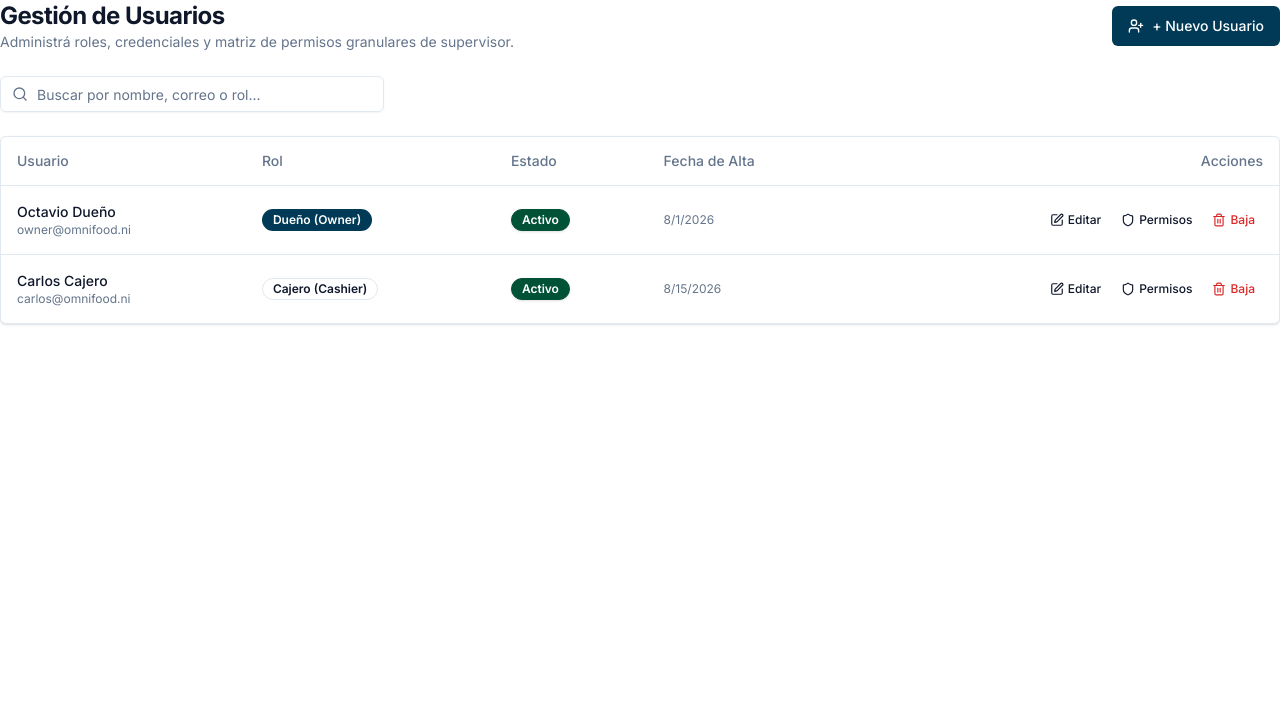
W8 — Users & Permissions Integration Suite (Real React Query + UI) › creates a new user successfully, updates table, and persists across query cache
Check: the text "Carlos Cajero" is shown, box x1=17 y1=272 x2=108 y2=288
Click the button "+ Nuevo Usuario". click: (1196, 26)
box: x1=1112 y1=6 x2=1279 y2=46
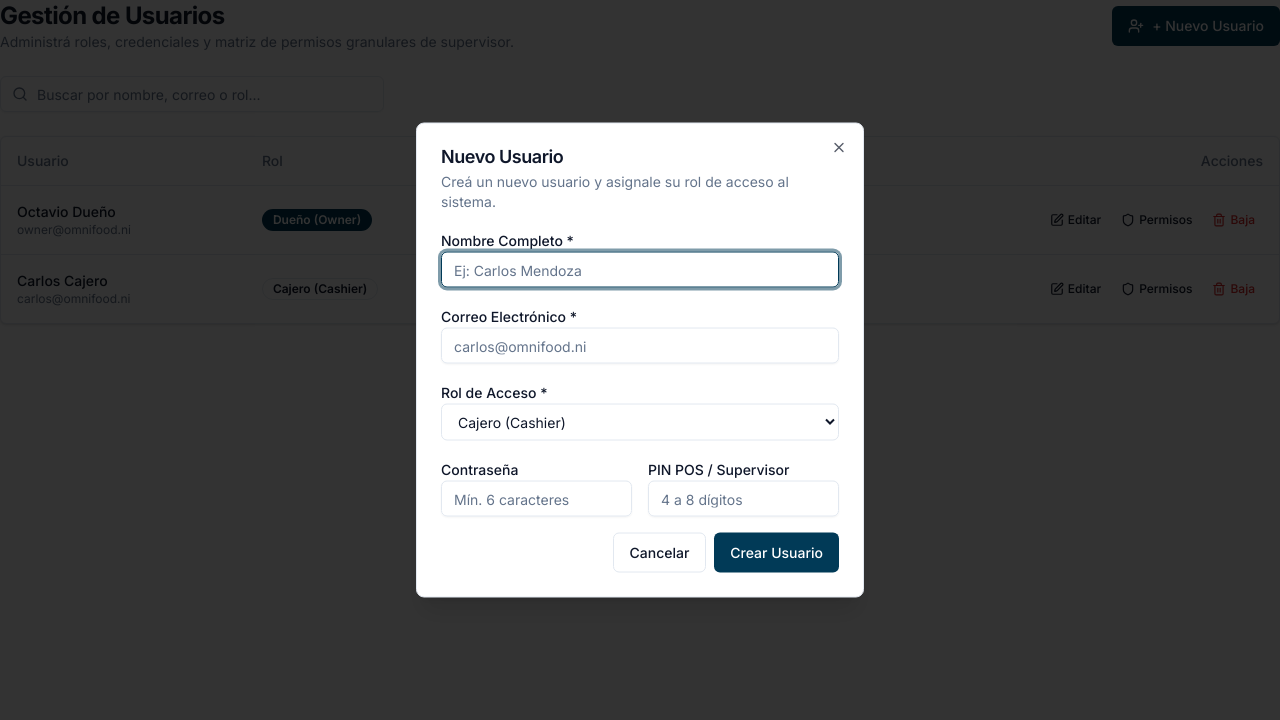
Type "Marcos Mesero" into the field with placeholder "Ej: Carlos Mendoza". click: (640, 270)
box: x1=441 y1=252 x2=839 y2=288
Type "marcos@omnifood.ni" into the field with placeholder "carlos@omnifood.ni". click: (640, 346)
box: x1=441 y1=328 x2=839 y2=364
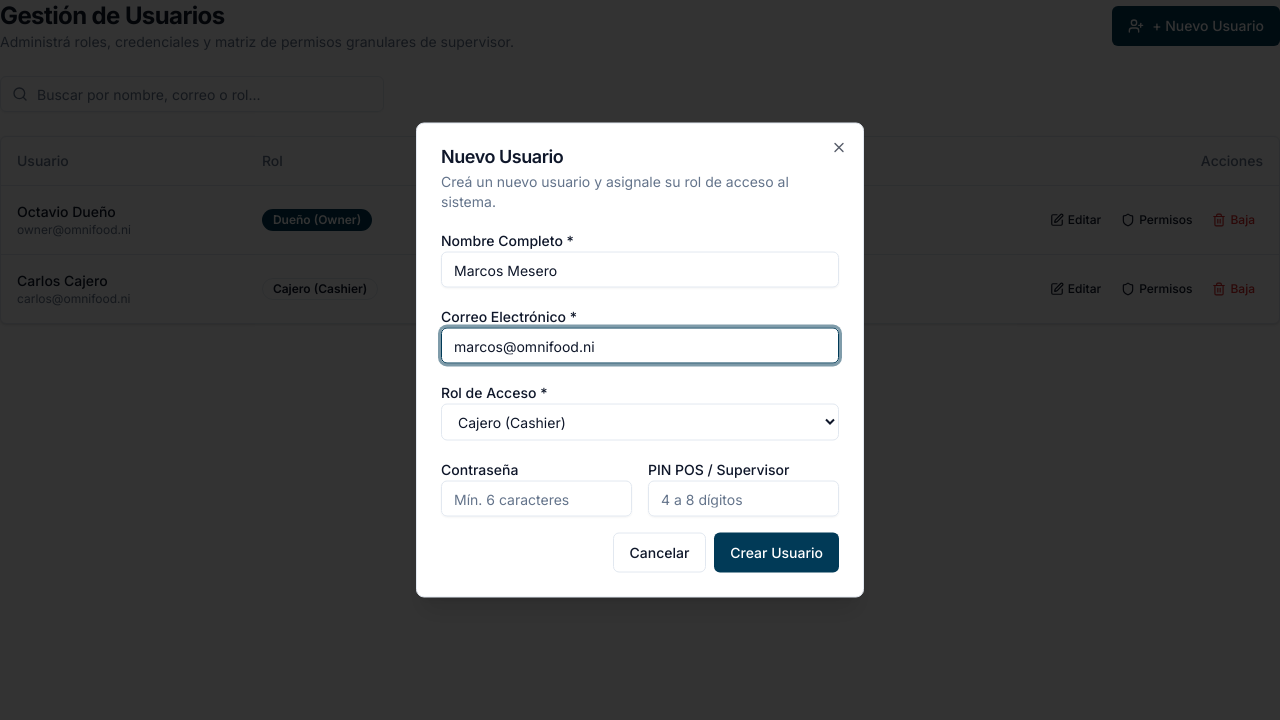
Select "Mesero (Waiter)" in the dropdown. click: (640, 422)
box: x1=441 y1=404 x2=839 y2=440
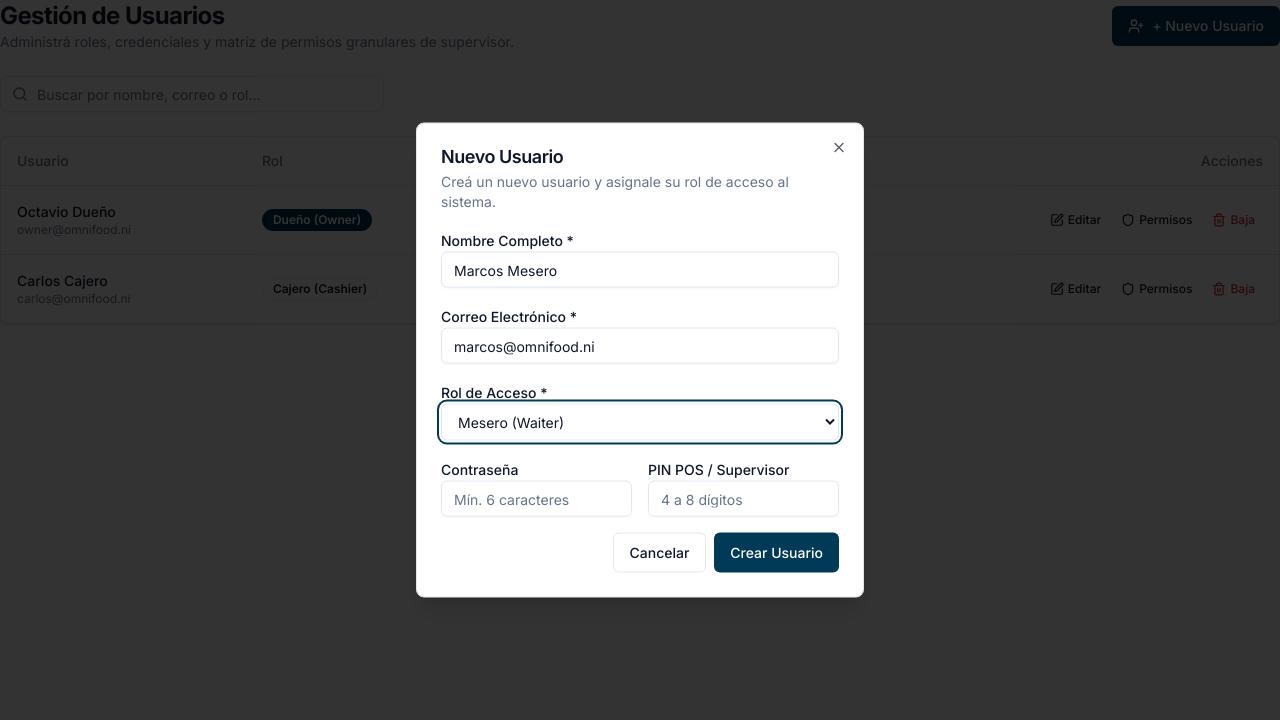
Type "password123" into the password field with placeholder "Mín. 6 caracteres". click: (536, 498)
box: x1=441 y1=480 x2=632 y2=516
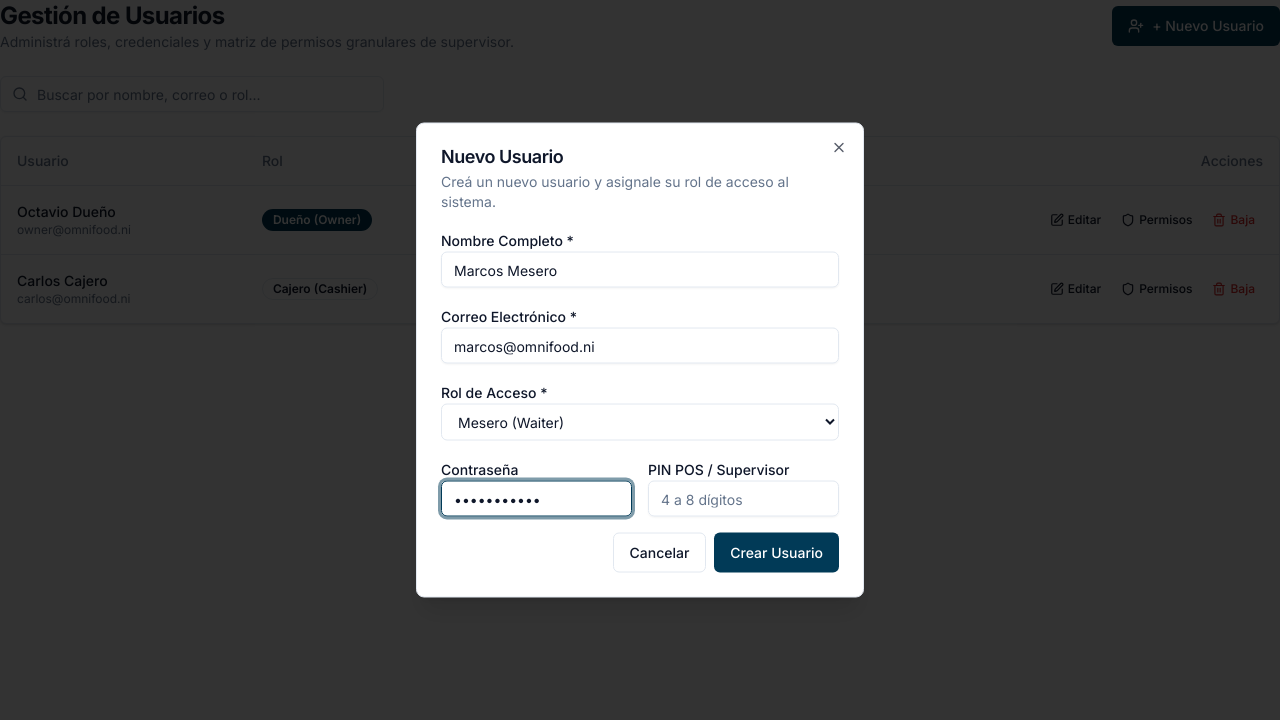
Type "4321" into the password field with placeholder "4 a 8 dígitos". click: (744, 498)
box: x1=648 y1=480 x2=839 y2=516
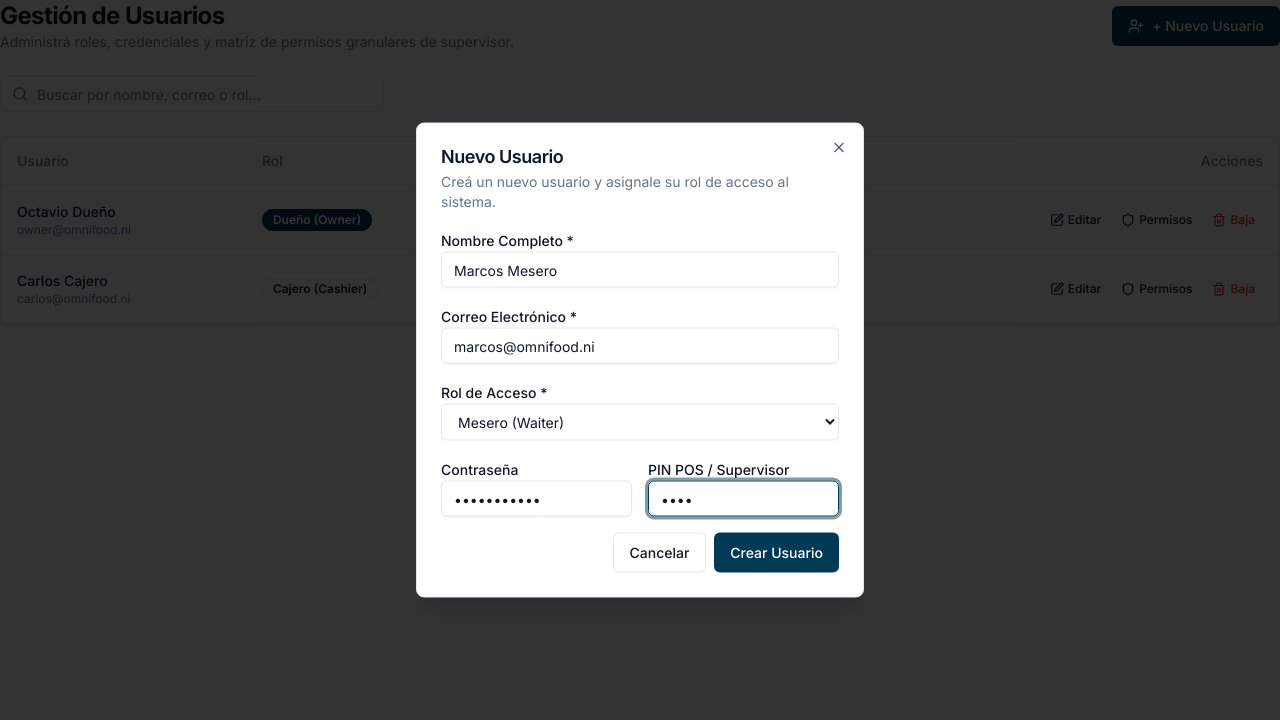
Click the button "Crear Usuario". click: (777, 552)
box: x1=714 y1=532 x2=839 y2=572
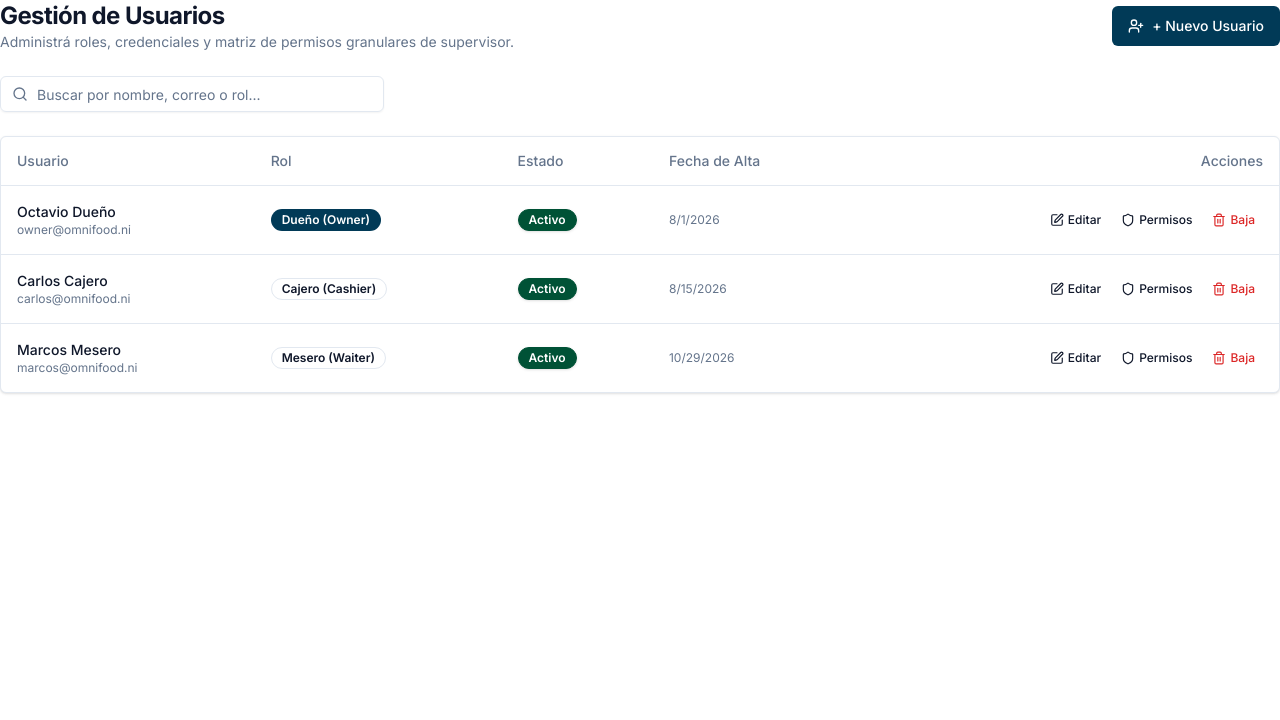
Check: the text "Marcos Mesero" is shown, box x1=17 y1=340 x2=121 y2=358
Check: the text "marcos@omnifood.ni" is shown, box x1=17 y1=360 x2=138 y2=374
Check: the text "Mesero (Waiter)" is shown, box x1=271 y1=346 x2=386 y2=368
